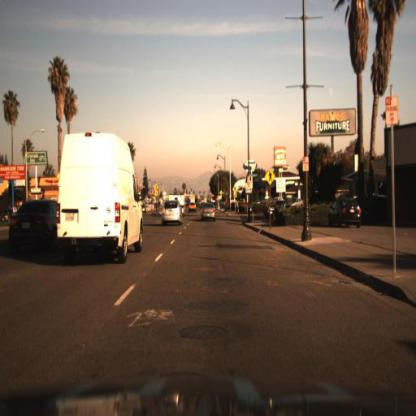car: (57, 132, 146, 263), (7, 195, 63, 263), (328, 190, 366, 230), (161, 198, 186, 228), (263, 197, 292, 221), (201, 197, 219, 223), (288, 194, 306, 212), (189, 193, 201, 211)
pedestrian: (234, 200, 240, 221)
truck: (55, 126, 141, 266)
